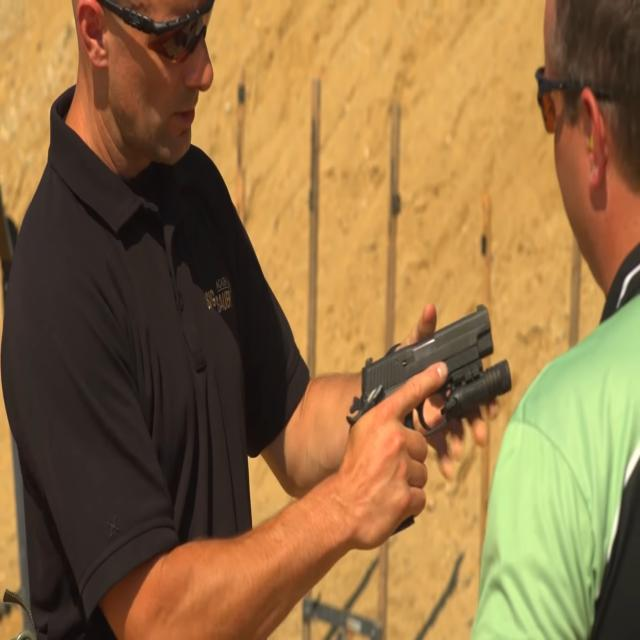Gun_Holder: (354, 313, 512, 533)
Person: (1, 0, 416, 640)
